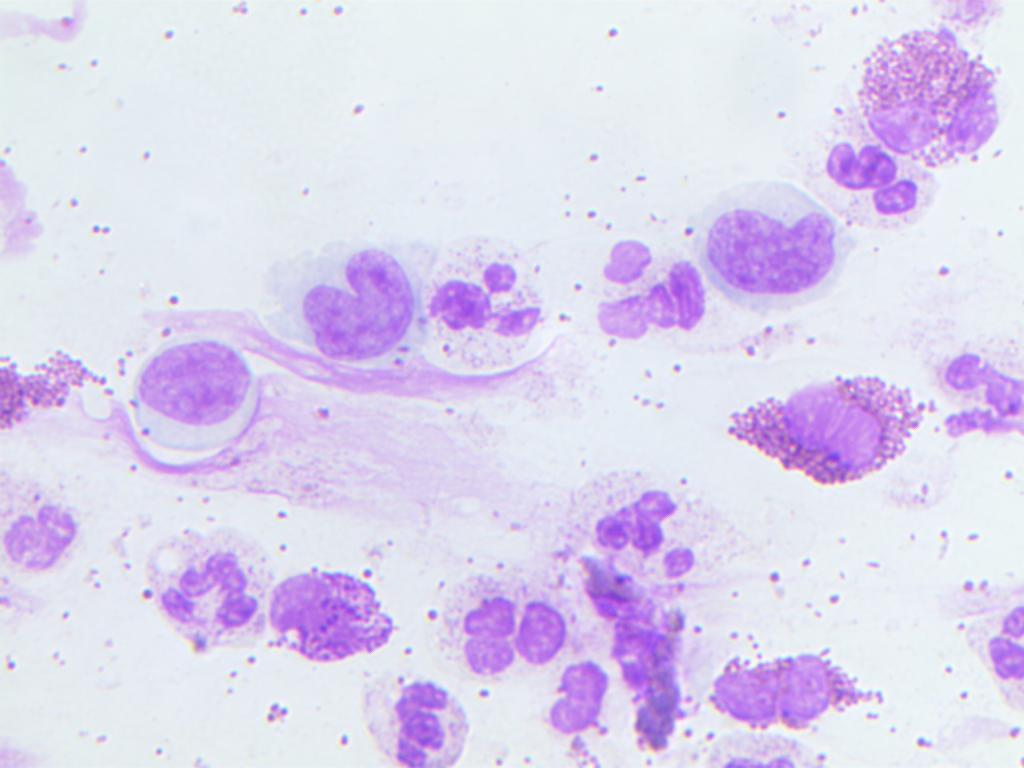eosinophil: (708, 366, 929, 486), (856, 27, 1015, 165), (265, 529, 409, 676), (606, 584, 700, 753), (711, 637, 861, 731), (0, 336, 94, 438)
epithelial: (267, 228, 431, 370), (688, 181, 841, 322), (123, 338, 252, 460)
neutrophil: (412, 231, 556, 378), (578, 470, 721, 588), (583, 223, 716, 343), (436, 581, 578, 680), (801, 124, 933, 229), (922, 328, 1024, 462), (334, 668, 472, 767), (148, 539, 260, 658), (0, 480, 97, 608), (964, 578, 1024, 743), (539, 653, 613, 745)
